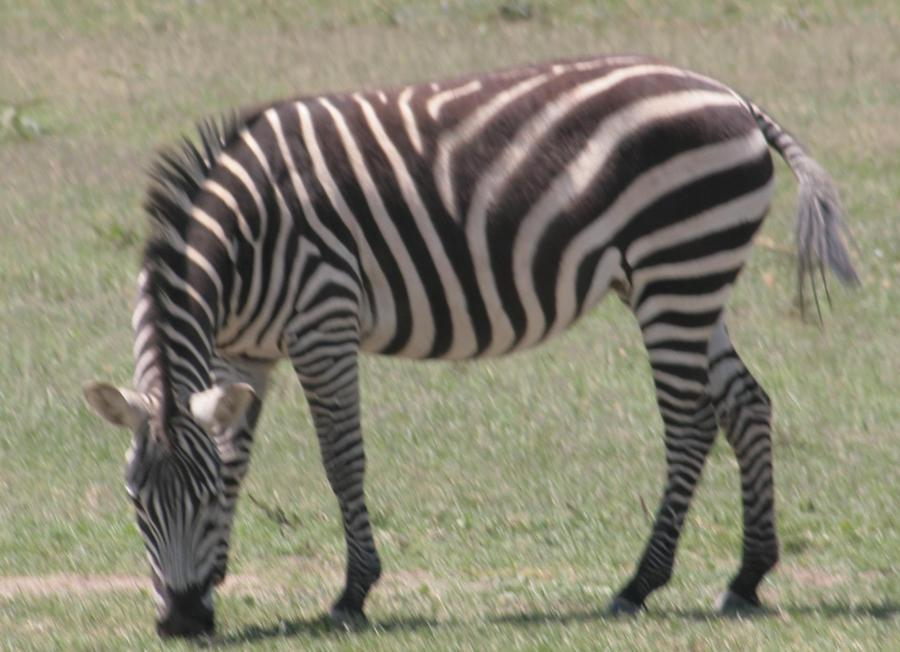zebra_plains: (196, 75, 766, 368)
